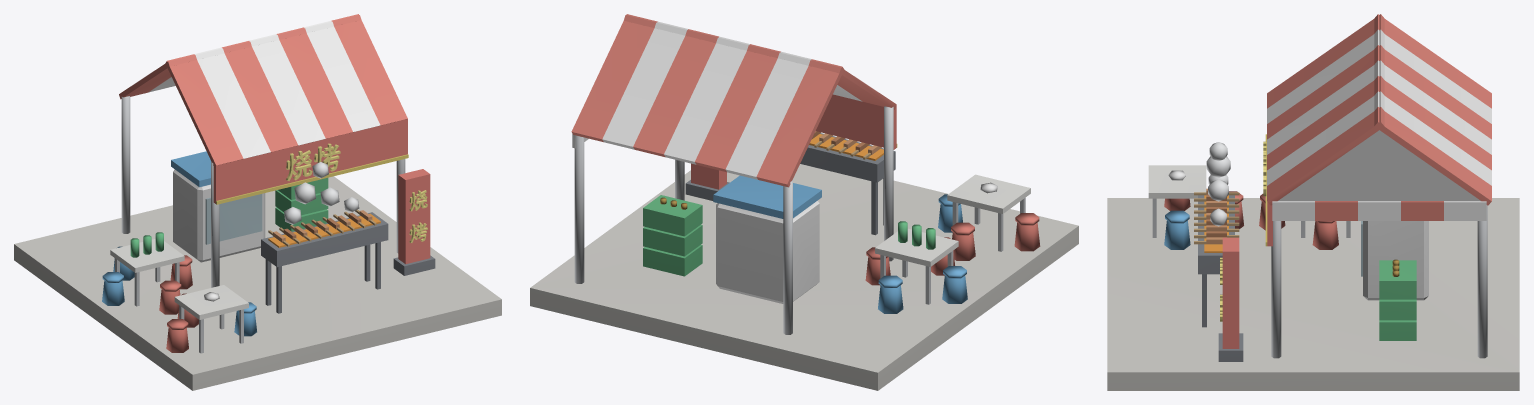
The model's file is bbq.glb.
3 renders of one model, left to right at view 1: azimuth 30°, elevation 25°; view 2: azimuth 150°, elevation 25°; view 3: azimuth 270°, elevation 25°, orthographic. The views are drawn at different scales.
Visible parts, largest first — view 1: bbq; view 2: bbq; view 3: bbq.
Boxes of the visible parts, x1,y1,x2,y2 form: bbq: (14,14,501,390); bbq: (530,14,1078,390); bbq: (1107,14,1519,390).
Bounding box in the file's own units: 1 × 0.682 × 1.
